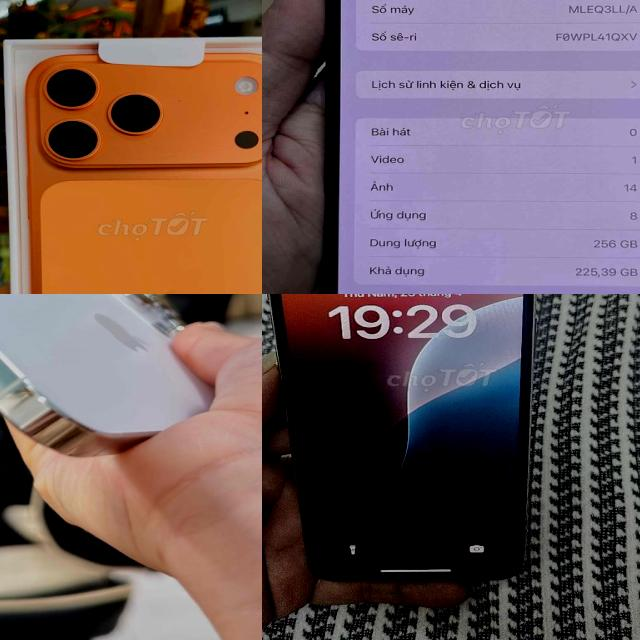gen_12_13: (322, 0, 640, 294)
gen_14: (0, 294, 251, 470)
gen_17: (0, 47, 262, 294)
gen_x_xs: (262, 294, 559, 600)
